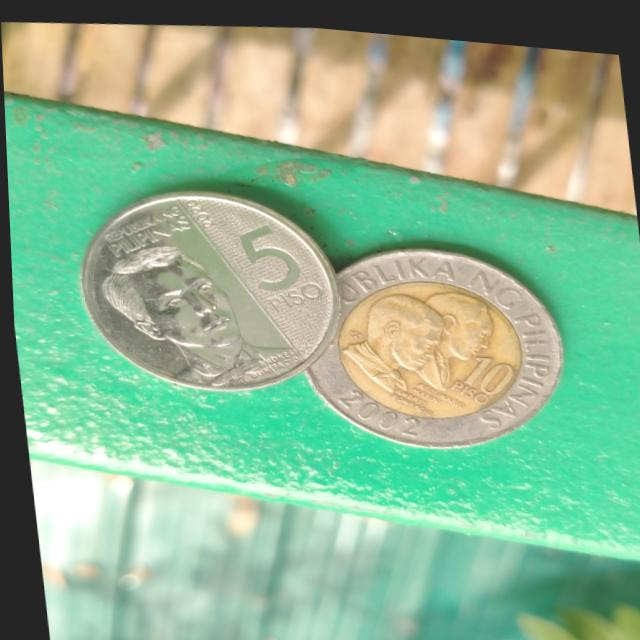10_Old_Front: (320, 245, 541, 438)
5_New_Front: (96, 185, 318, 392)
